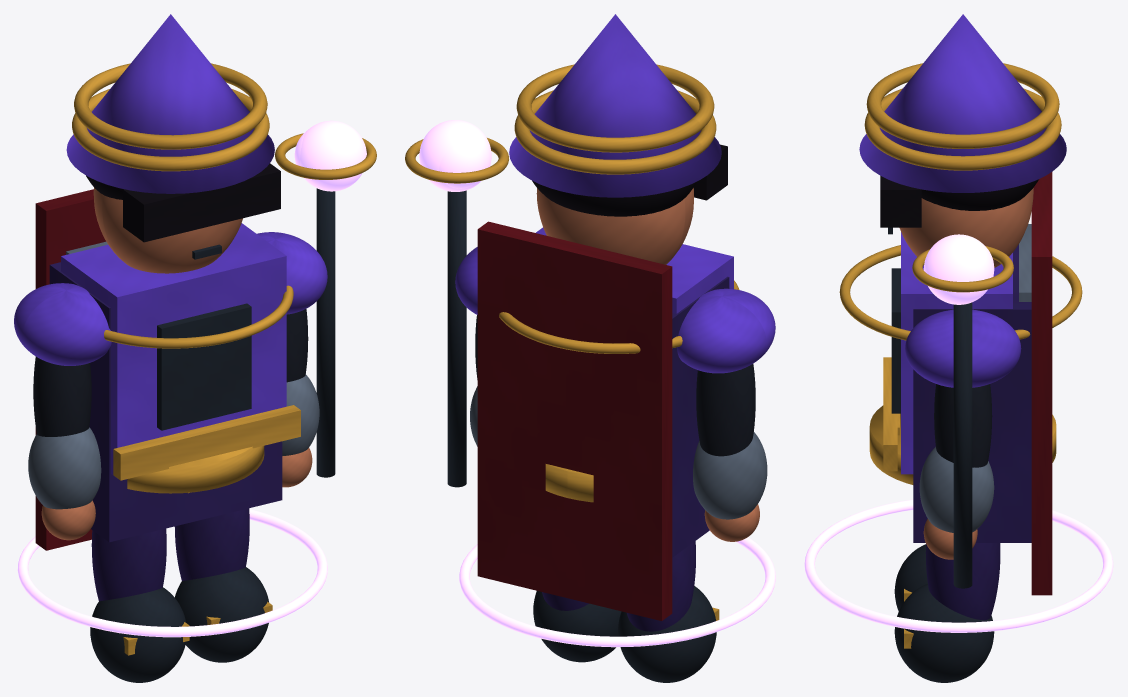
Rendered from Mastery.glb.
3 renders of one model, left to right at view 1: azimuth 30°, elevation 25°; view 2: azimuth 150°, elevation 25°; view 3: azimuth 270°, elevation 25°, orthographic. The views are drawn at different scales.
Visible parts, largest first — view 1: ChestPlate, WizardHat, LayeredRobe, ChestInset, HairFringe, Shoulder, MageSash, Boot, Boot.001, Staff, MagicCircle, Head (+16 smaller); view 2: Cape, WizardHat, Shoulder, Head, Staff, LayeredRobe, CrownRing, MagicCircle, Arm, Gauntlet, Boot, HatBand (+12 smaller); view 3: WizardHat, LayeredRobe, Cape, MagicCircle, Shoulder.001, Staff, Boot.001, CrownRing, Head, ChestPlate, Leg.001, HatBand (+13 smaller).
Part boxes in pixels (bbox=[...]): ChestPlate: bbox=[61, 223, 286, 478]; WizardHat: bbox=[66, 14, 274, 193]; LayeredRobe: bbox=[49, 262, 282, 542]; ChestInset: bbox=[157, 303, 251, 430]; HairFringe: bbox=[123, 163, 280, 242]; Shoulder: bbox=[14, 283, 111, 365]; MageSash: bbox=[113, 405, 300, 480]; Boot: bbox=[90, 587, 185, 682]; Boot.001: bbox=[175, 567, 268, 662]; Staff: bbox=[316, 188, 335, 477]; MagicCircle: bbox=[17, 509, 327, 637]; Head: bbox=[93, 187, 242, 273]; Cape: bbox=[477, 221, 672, 620]; WizardHat: bbox=[509, 14, 721, 197]; Shoulder: bbox=[677, 288, 775, 373]; Head: bbox=[536, 188, 694, 264]; Staff: bbox=[447, 190, 466, 487]; LayeredRobe: bbox=[672, 276, 729, 557]; CrownRing: bbox=[516, 64, 714, 152]; MagicCircle: bbox=[459, 530, 775, 647]; Arm: bbox=[696, 364, 755, 456]; Gauntlet: bbox=[693, 432, 767, 519]; Boot: bbox=[618, 586, 716, 682]; HatBand: bbox=[514, 90, 716, 174]; WizardHat: bbox=[859, 14, 1066, 192]; LayeredRobe: bbox=[913, 244, 1031, 542]; Cape: bbox=[1031, 172, 1052, 595]; MagicCircle: bbox=[804, 499, 1113, 632]; Shoulder.001: bbox=[905, 309, 1021, 387]; Staff: bbox=[953, 302, 972, 588]; Boot.001: bbox=[894, 584, 994, 682]; CrownRing: bbox=[866, 63, 1059, 148]; Head: bbox=[899, 188, 1033, 267]; ChestPlate: bbox=[901, 232, 1012, 474]; Leg.001: bbox=[925, 543, 1000, 620]; HatBand: bbox=[864, 88, 1061, 170].
Bounding box in the file's own units: 1.93 × 3.43 × 1.49.
12 materials, 9 textured.
